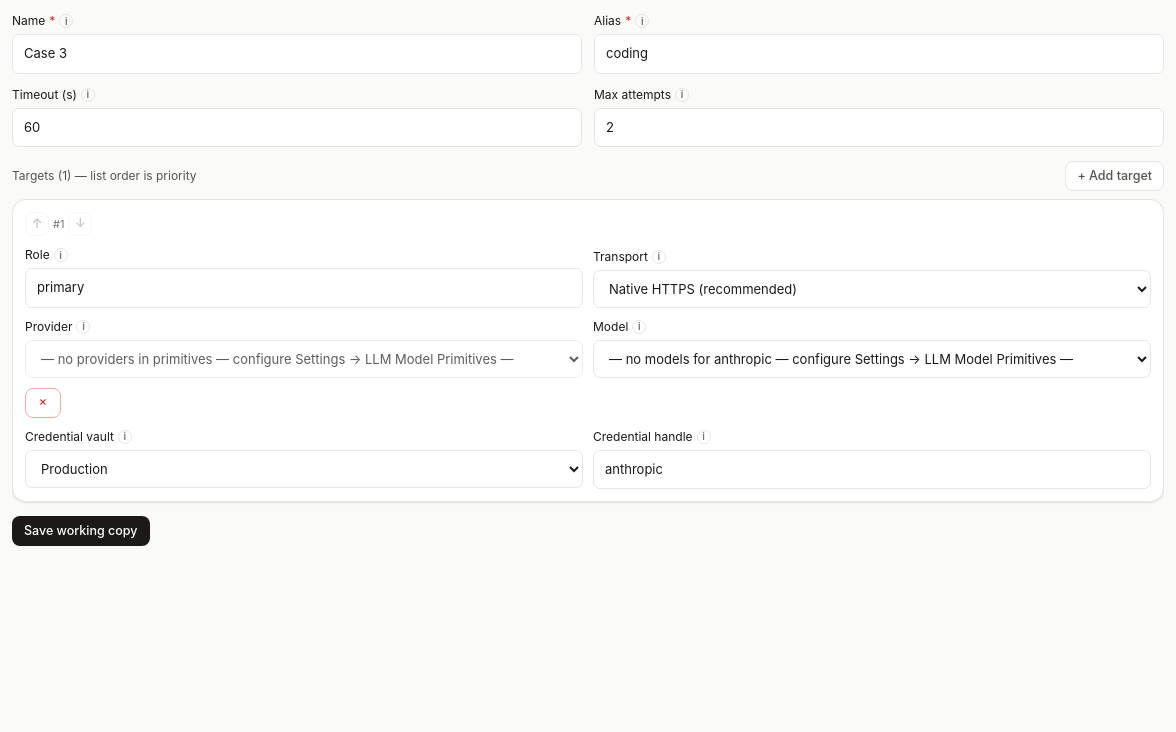
shows a readable server error and clears it on correction
Click the button "Save working copy": (81, 531) [12,516,150,546]
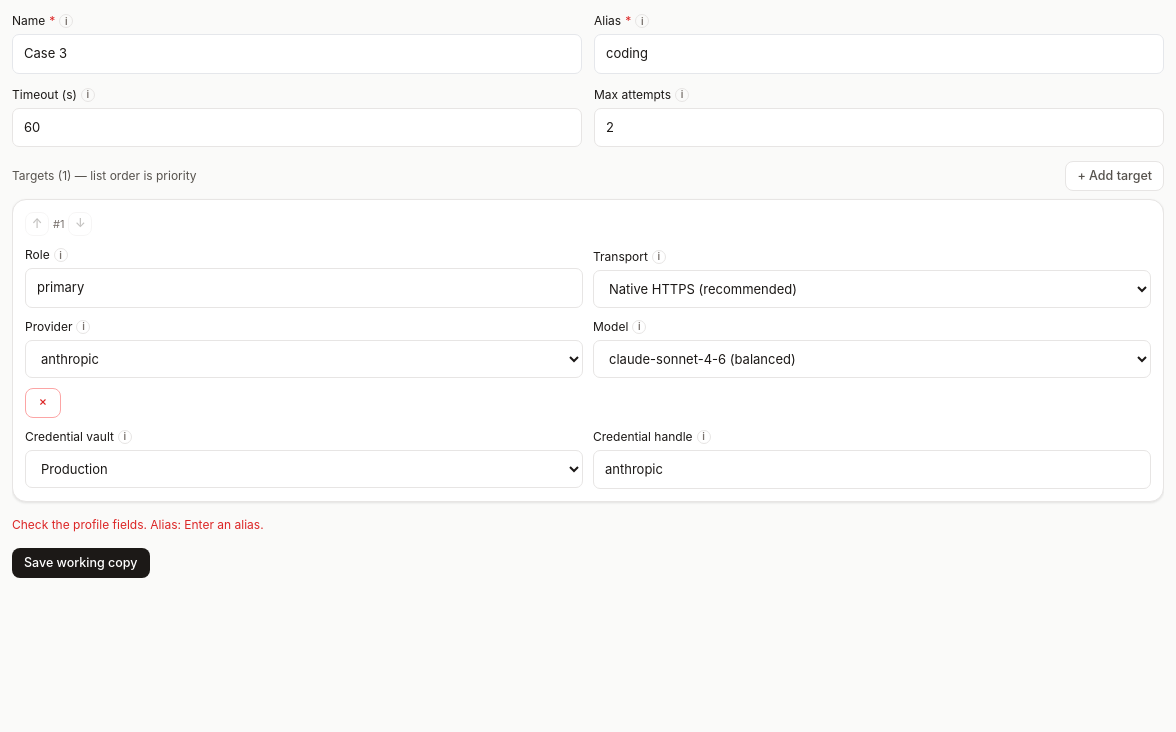
Expected: the message shows "Alias: Enter an alias.", [12,517,264,532]
Replace the text in the field labelled "Alias" with "claude": (879, 54) [594,34,1164,74]
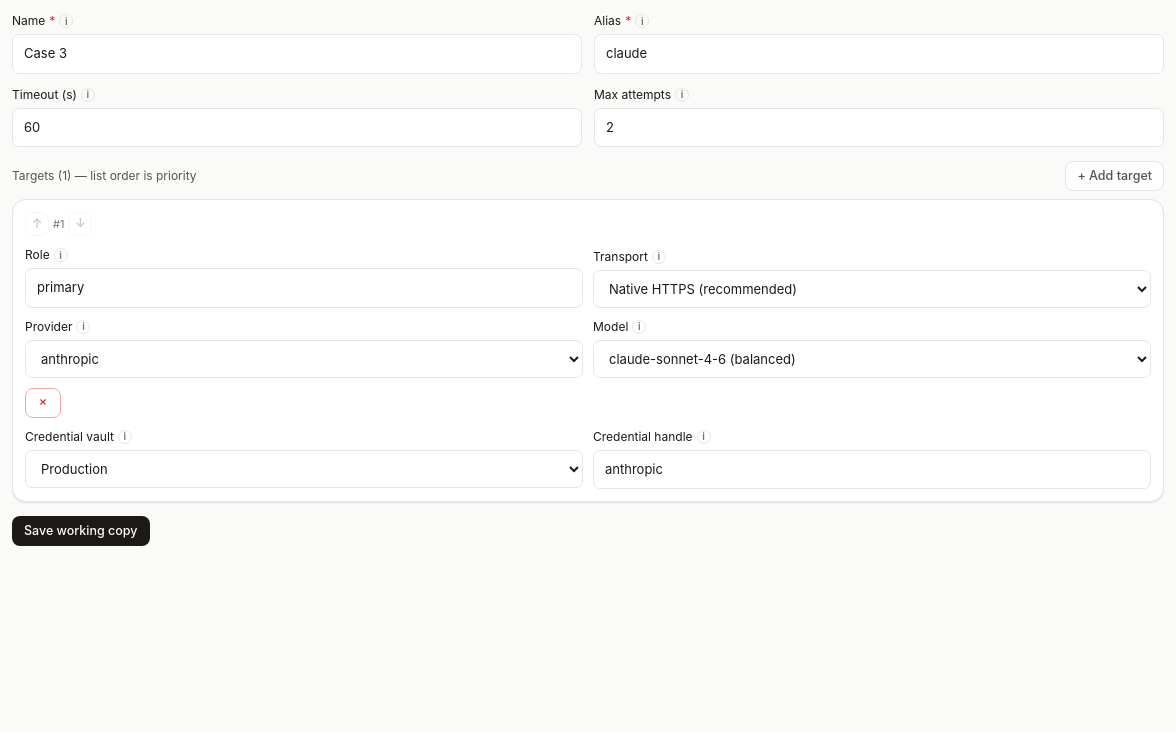
Expected: the message "Check the profile fields. Alias: Enter an alias." is gone
